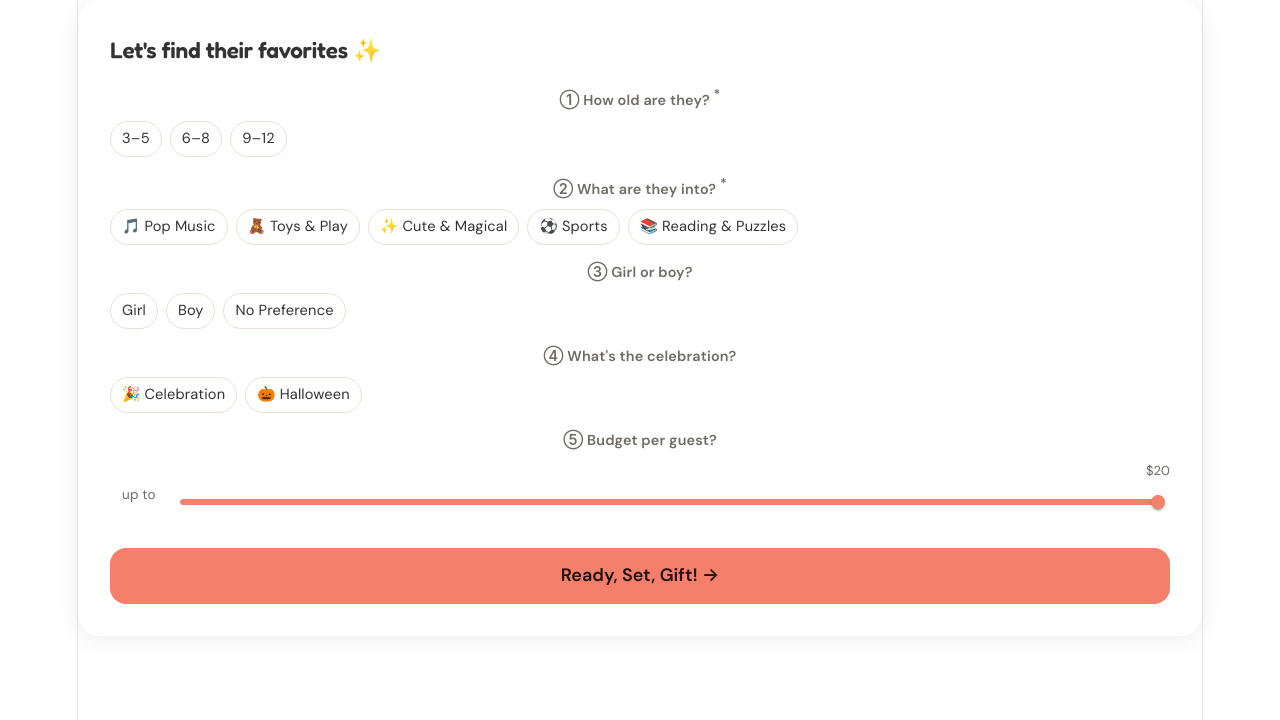
Test: GiftFinder — Clear all › shows Clear all once any selection is made
The width and height of the screenshot is (1280, 720).
Step 1. Click the button "6–8" → (196, 139), box [170,121,222,157]
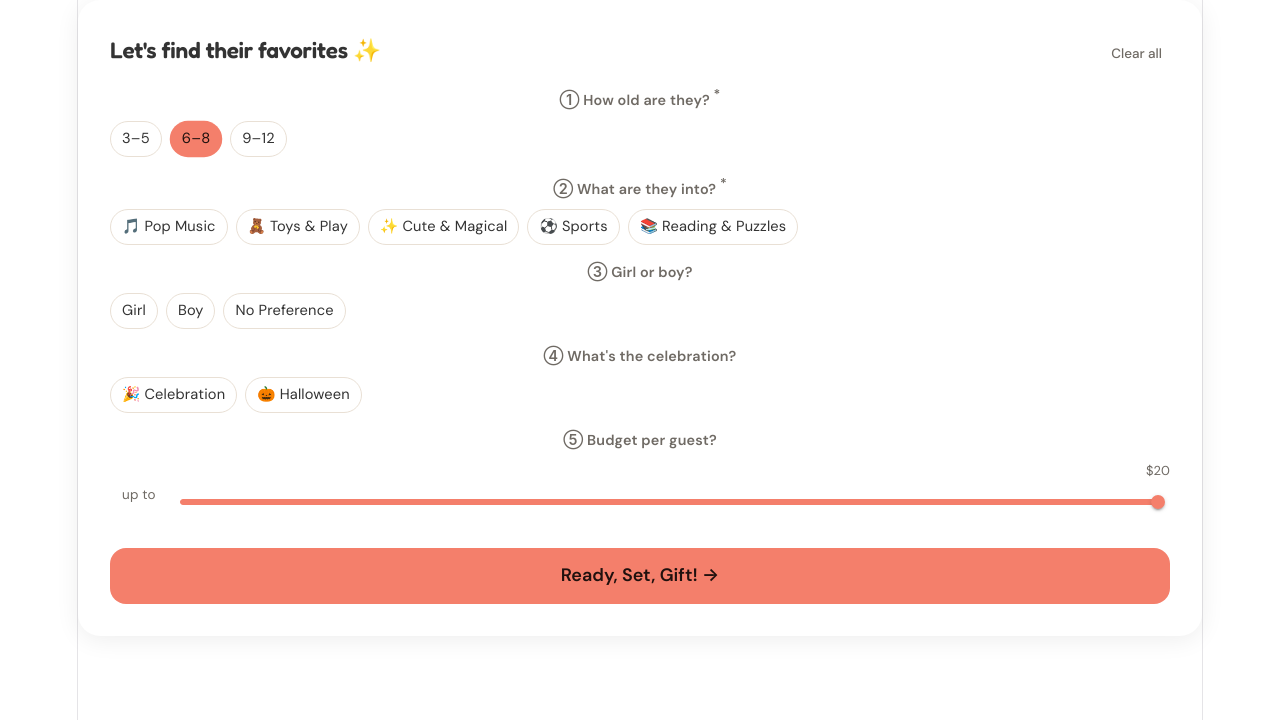
Now the button "Clear all" is shown, box [1103,43,1170,64]
